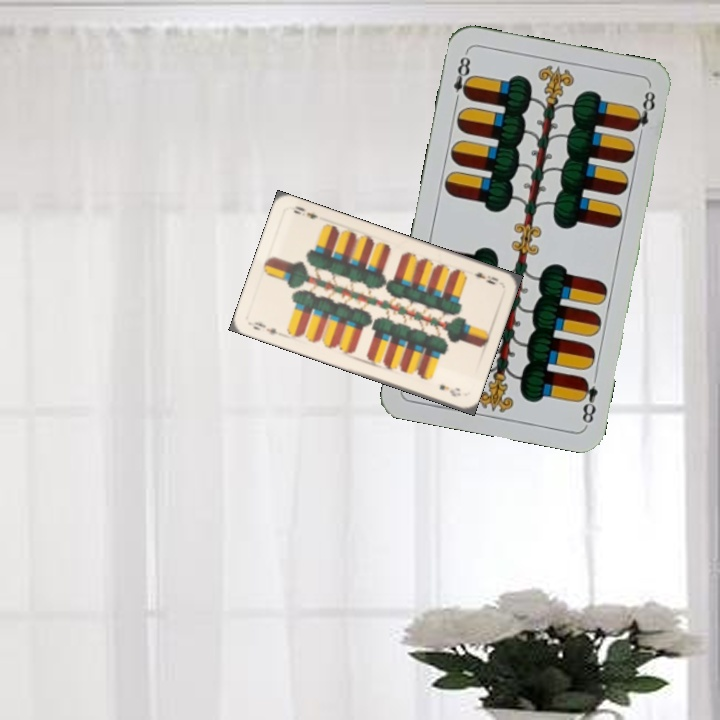E8: (449, 49, 475, 108), (575, 374, 601, 426)
E9: (249, 318, 280, 337), (470, 268, 501, 287)
